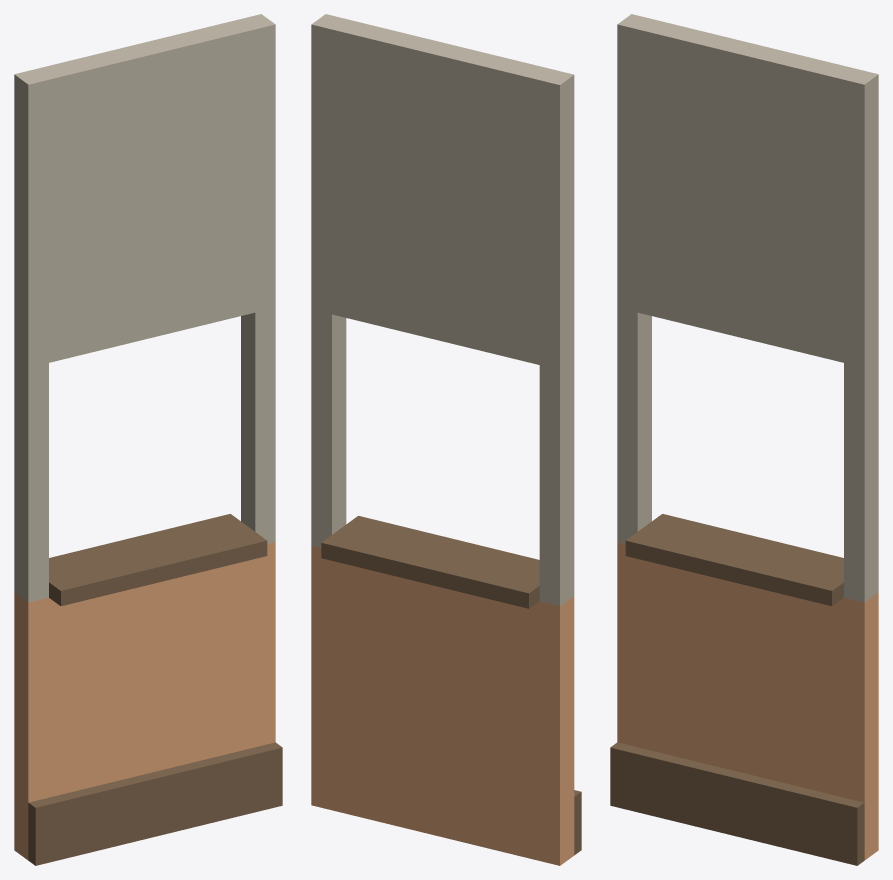
The model's file is Mesh_WallBaseboard2Colors_C2.fbx.
3 renders of one model, left to right at view 1: azimuth 30°, elevation 25°; view 2: azimuth 150°, elevation 25°; view 3: azimuth 330°, elevation 25°, orthographic.
Parts seen in each view (by area): view 1: Mesh_WallBaseboard2Colors_C2; view 2: Mesh_WallBaseboard2Colors_C2; view 3: Mesh_WallBaseboard2Colors_C2.
Part boxes in pixels (<box>): Mesh_WallBaseboard2Colors_C2: <box>14,14,282,865</box>; Mesh_WallBaseboard2Colors_C2: <box>311,14,581,865</box>; Mesh_WallBaseboard2Colors_C2: <box>610,14,878,865</box>.
Size of the model in its own units: 1 by 3 by 0.2574.
